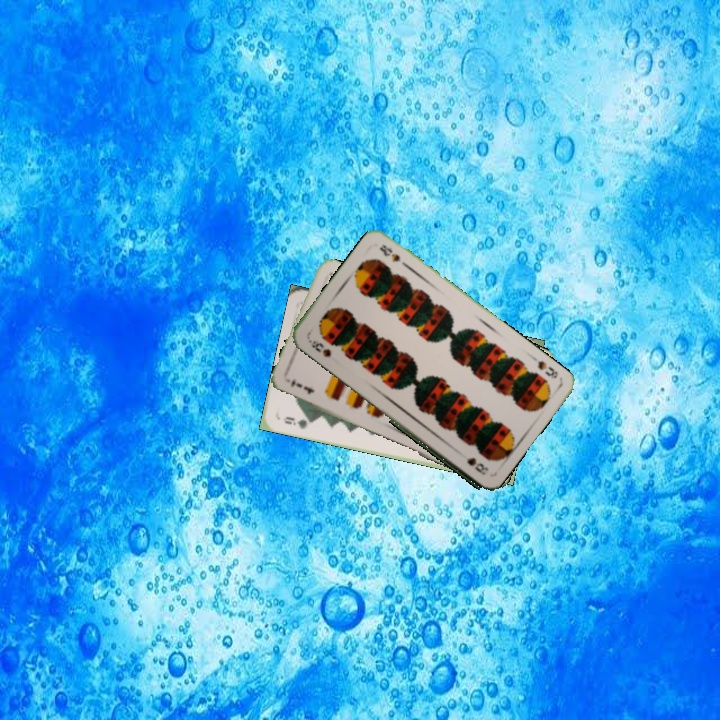E7: (286, 376, 316, 397)
G9: (281, 412, 317, 432)
S8: (527, 352, 561, 381), (304, 336, 334, 360)
